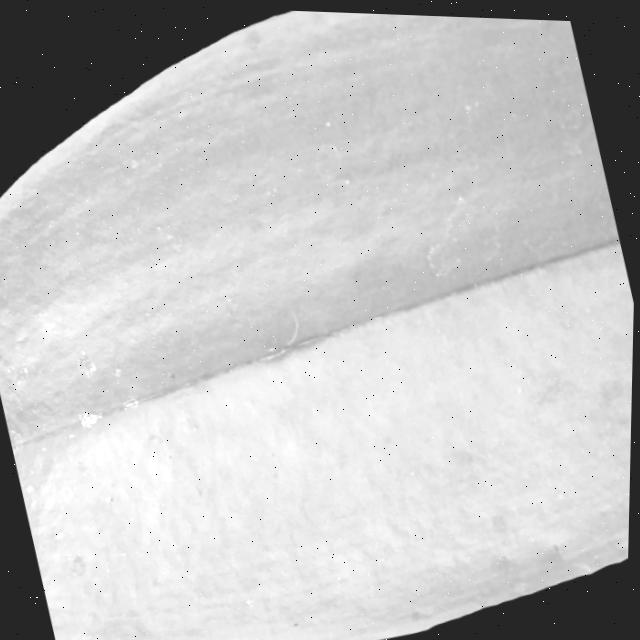mite: (259, 491, 580, 638), (241, 583, 309, 639), (72, 346, 102, 380), (97, 485, 125, 512), (158, 362, 185, 386), (69, 551, 92, 578), (457, 91, 483, 113), (489, 508, 512, 532), (287, 611, 309, 631), (102, 490, 120, 506), (163, 366, 180, 381), (460, 96, 475, 109), (321, 114, 334, 127), (292, 616, 304, 627), (105, 492, 117, 503), (166, 369, 178, 379)
